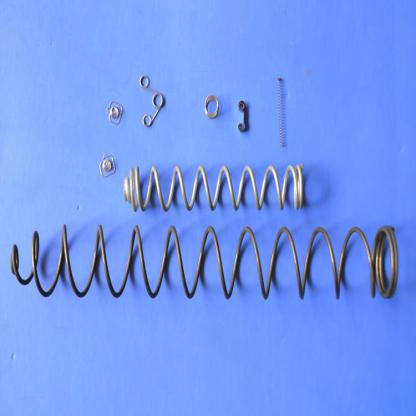FOD: (3, 222, 402, 305), (121, 156, 306, 218), (276, 74, 286, 148), (98, 148, 116, 182), (235, 98, 250, 134), (203, 93, 220, 122)
